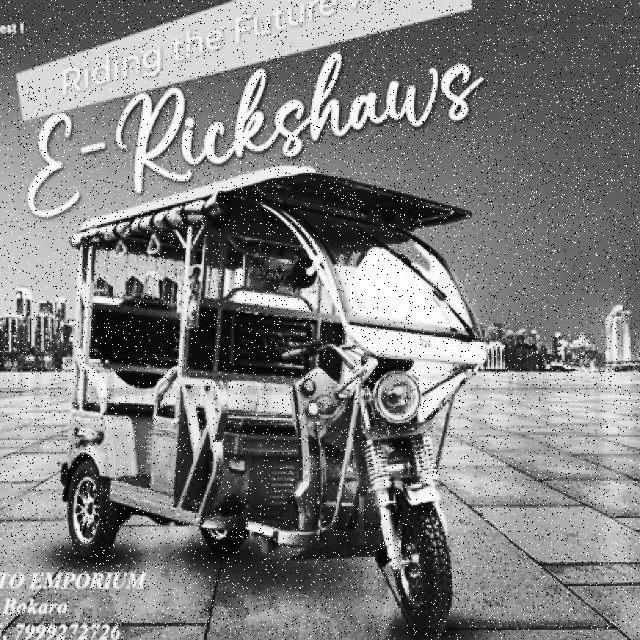Toto: (61, 167, 481, 630)
